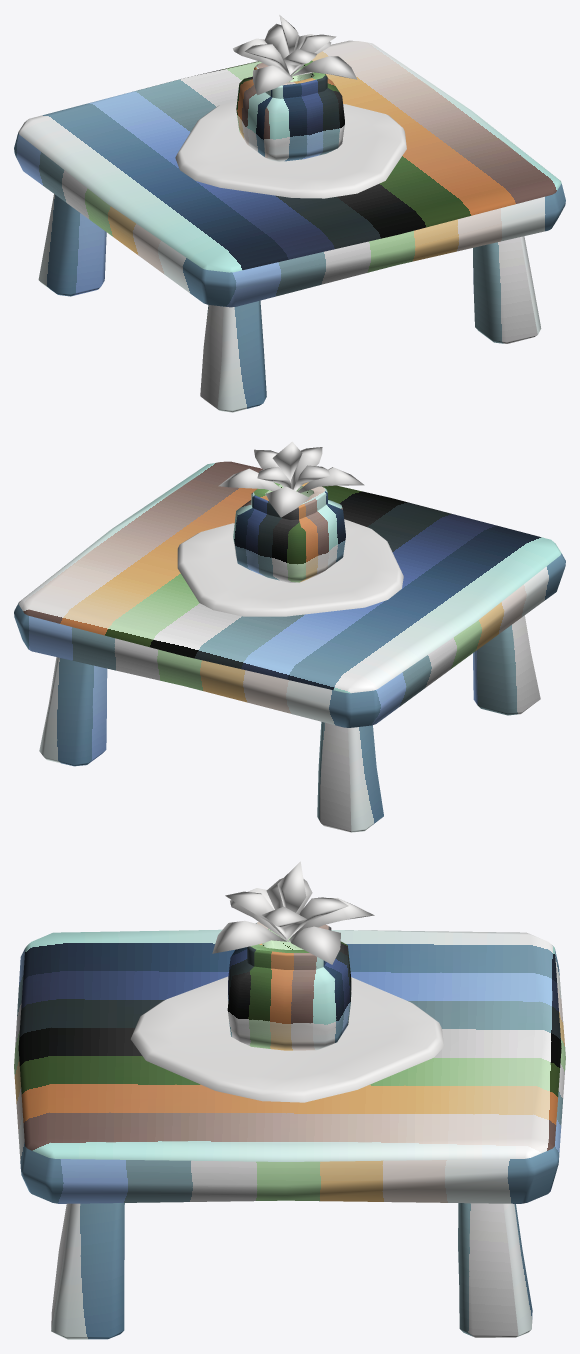
Rendered from P_StoneDiningTableSquare.glb.
3 renders of one model, top to bottom at view 1: azimuth 30°, elevation 25°; view 2: azimuth 150°, elevation 25°; view 3: azimuth 270°, elevation 25°, orthographic. The views are drawn at different scales.
Parts seen in each view (by area): view 1: P_StoneDiningTableSquare; view 2: P_StoneDiningTableSquare; view 3: P_StoneDiningTableSquare.
Part boxes in pixels (x1,y1,x2,y2): P_StoneDiningTableSquare: [14, 15, 565, 412]; P_StoneDiningTableSquare: [14, 441, 565, 832]; P_StoneDiningTableSquare: [14, 861, 565, 1339].
Size of the model in its own units: 1.54 by 1.15 by 1.54.
1 material, 1 textured.
